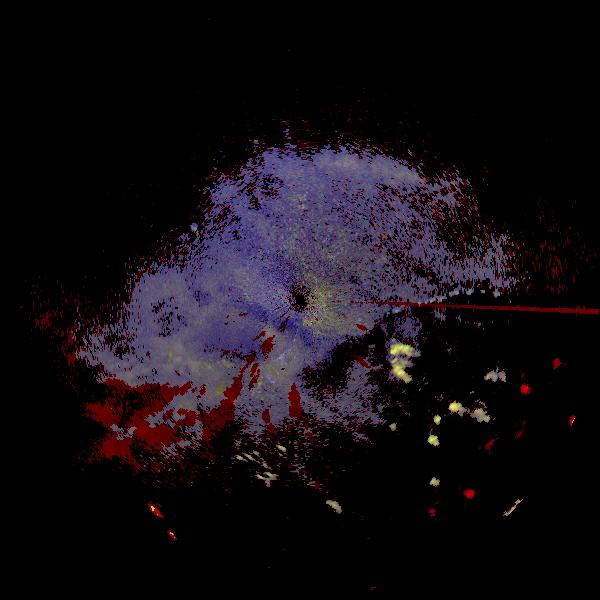roost: (157, 350, 178, 371)
